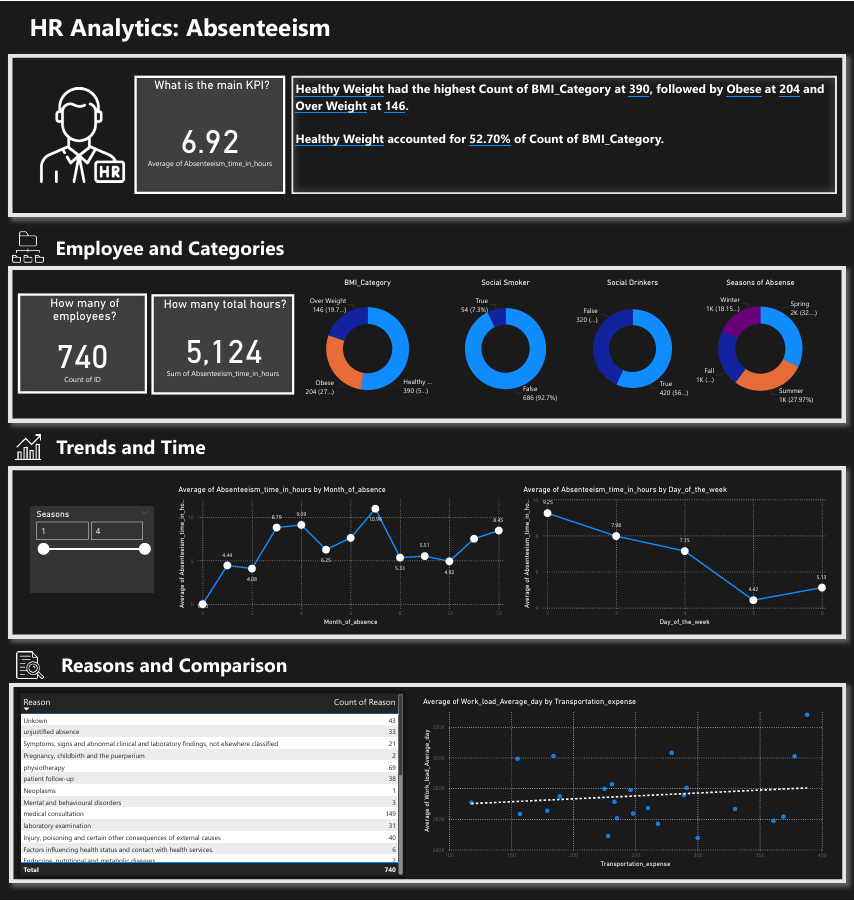

The page's visual inventory and layout, read from the dashboard file:
{"tool":"powerbi","page":{"name":"Page 1","canvas":[1890,1990],"ordinal":0},"visuals":[{"type":"shape","box":[18,116,1854,360],"z":0},{"type":"shape","box":[17.5,586,1852.5,345],"z":1000},{"type":"shape","box":[20,1510,1852,442],"z":2000},{"type":"shape","box":[18,1030,1852,380],"z":3000},{"type":"donutChart","title":"BMI_Category","fields":{"Category":["Query1.BMI_Category"],"Y":["CountNonNull(Query1.BMI_Category)"]},"box":[650.7,612.1,322.9,294.3],"z":4000},{"type":"card","title":"What is the main KPI?","fields":{"Values":["Avg(Query1.Absenteeism_time_in_hours)"]},"box":[296,164,334,262],"z":5000},{"type":"donutChart","title":"Social Smoker","fields":{"Category":["Query1.Social_smoker"],"Y":["CountNonNull(Query1.Social_smoker)"]},"box":[963.6,612.1,308.6,294.3],"z":6000},{"type":"donutChart","title":"Social Drinkers","fields":{"Y":["CountNonNull(Query1.Social_drinker)"],"Category":["Query1.Social_drinker"]},"box":[1255,612.1,288.6,294.3],"z":7000},{"type":"donutChart","title":"Seasons of Absense","fields":{"Y":["Sum(Query1.Absenteeism_time_in_hours)"],"Category":["Query1.Season_Names"]},"box":[1513.6,612.1,337.1,294.3],"z":8000},{"type":"textbox","box":[644,164,1208,262],"z":9000},{"type":"textbox","box":[57.5,12.5,695,87.5],"z":10000},{"type":"image","box":[22,184,318,222],"z":11000},{"type":"textbox","box":[115.9,510.6,695,87.5],"z":12000},{"type":"image","box":[20,500,80,86],"z":13000},{"type":"card","title":"How many of employees?","fields":{"Values":["CountNonNull(Query1.ID)"]},"box":[38,646,286,222],"z":14000},{"type":"card","title":"How many total hours?","fields":{"Values":["Sum(Query1.Absenteeism_time_in_hours)"]},"box":[334,648,316,222],"z":15000},{"type":"textbox","box":[117.5,950,375,87.5],"z":16000},{"type":"image","box":[27.5,930.1,67.5,115],"z":17000},{"type":"lineChart","fields":{"Y":["Avg(Query1.Absenteeism_time_in_hours)"],"Category":["Query1.Month_of_absence"]},"box":[388,1070,730,316],"z":18000},{"type":"lineChart","fields":{"Y":["Avg(Query1.Absenteeism_time_in_hours)"],"Category":["Query1.Day_of_the_week"]},"box":[1152,1070,682,316],"z":19000},{"type":"slicer","fields":{"Values":["Query1.Seasons"]},"box":[66,1118,274,192],"z":20000},{"type":"image","box":[30,1400,70,140],"z":21000},{"type":"textbox","box":[127.5,1435,520,92.5],"z":22000},{"type":"tableEx","fields":{"Values":["Query1.Reason","CountNonNull(Query1.Reason)"]},"box":[38,1528,858,412],"z":23000},{"type":"scatterChart","fields":{"X":["Query1.Transportation_expense"],"Y":["Avg(Query1.Work_load_Average_day)"]},"box":[930,1540,904,382],"z":24000}]}

Visuals, with their boxes in screenshot pixels (x1, y1, x2, y2), scaled from the page's 1890x1990 canvas onto the 854x901 screenshot:
shape: 8:53:846:216
shape: 8:265:845:422
shape: 9:684:846:884
shape: 8:466:845:638
"BMI_Category" donutChart: 294:277:440:410
"What is the main KPI?" card: 134:74:285:193
"Social Smoker" donutChart: 435:277:575:410
"Social Drinkers" donutChart: 567:277:697:410
"Seasons of Absense" donutChart: 684:277:836:410
textbox: 291:74:837:193
textbox: 26:6:340:45
image: 10:83:154:184
textbox: 52:231:366:271
image: 9:226:45:265
"How many of employees?" card: 17:292:146:393
"How many total hours?" card: 151:293:294:394
textbox: 53:430:223:470
image: 12:421:43:473
lineChart - Avg(Query1.Absenteeism_time_in_hours) x Query1.Month_of_absence: 175:484:505:628
lineChart - Avg(Query1.Absenteeism_time_in_hours) x Query1.Day_of_the_week: 521:484:829:628
slicer - Query1.Seasons: 30:506:154:593
image: 14:634:45:697
textbox: 58:650:293:692
tableEx - Query1.Reason x CountNonNull(Query1.Reason): 17:692:405:878
scatterChart - Query1.Transportation_expense x Avg(Query1.Work_load_Average_day): 420:697:829:870
